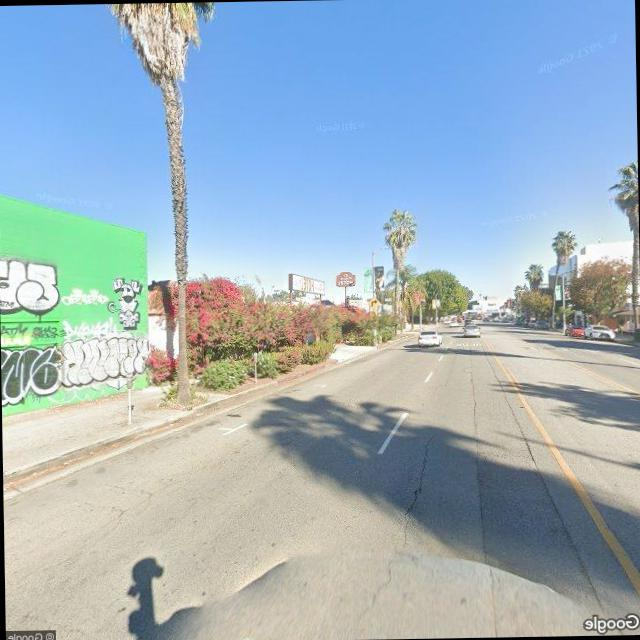crack: (365, 425, 440, 622)
